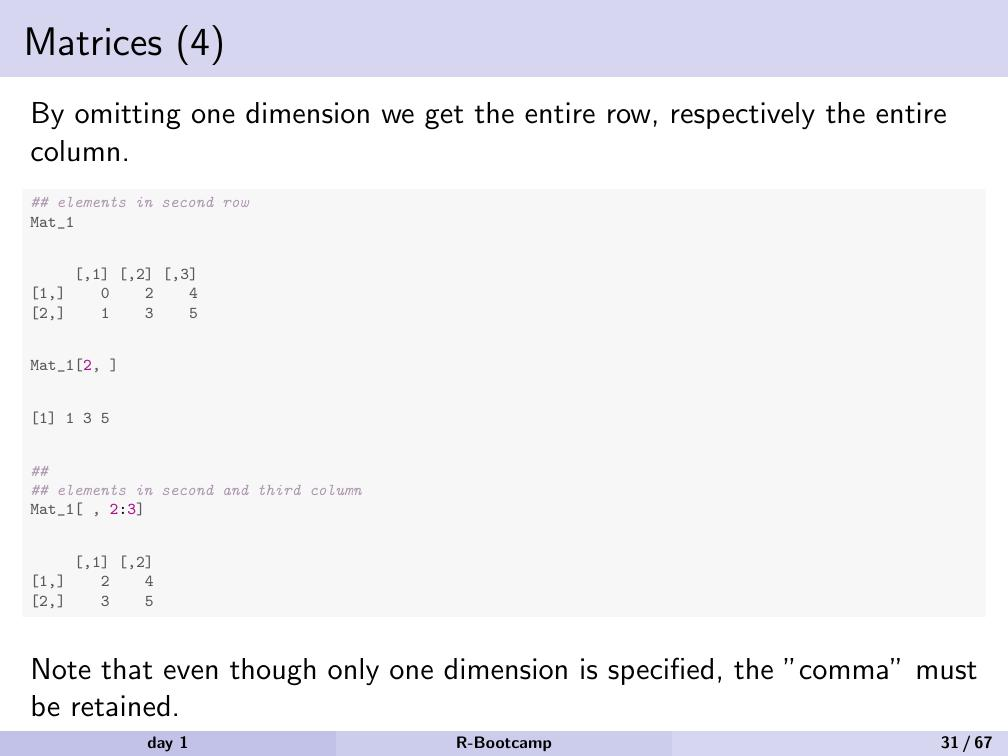Title: (15, 18, 233, 74)
